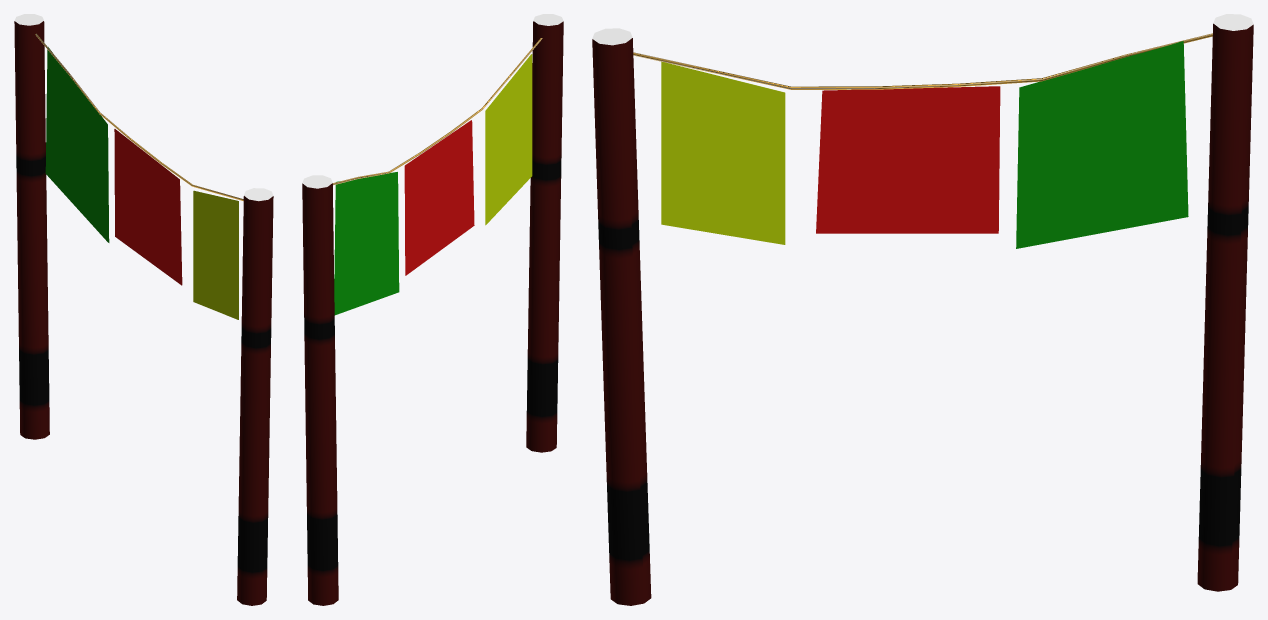
The model's file is snow_post_1.obj.
3 views of the same model, side by side, from view 1: azimuth 30°, elevation 25°; view 2: azimuth 150°, elevation 25°; view 3: azimuth 270°, elevation 25° (orthographic). The views are drawn at different scales.
Visible parts, largest first — view 1: pCube4_vtx_5_1; view 2: pCube4_vtx_5_1; view 3: pCube4_vtx_5_1.
Part boxes in pixels (left/top/right/bottom): pCube4_vtx_5_1: left=14, top=14, right=273, bottom=605; pCube4_vtx_5_1: left=302, top=14, right=563, bottom=605; pCube4_vtx_5_1: left=592, top=14, right=1253, bottom=605.
Bounding box in the file's own units: 5.58 × 80.44 × 83.98.
Materials: 1 (1 with a texture image).
